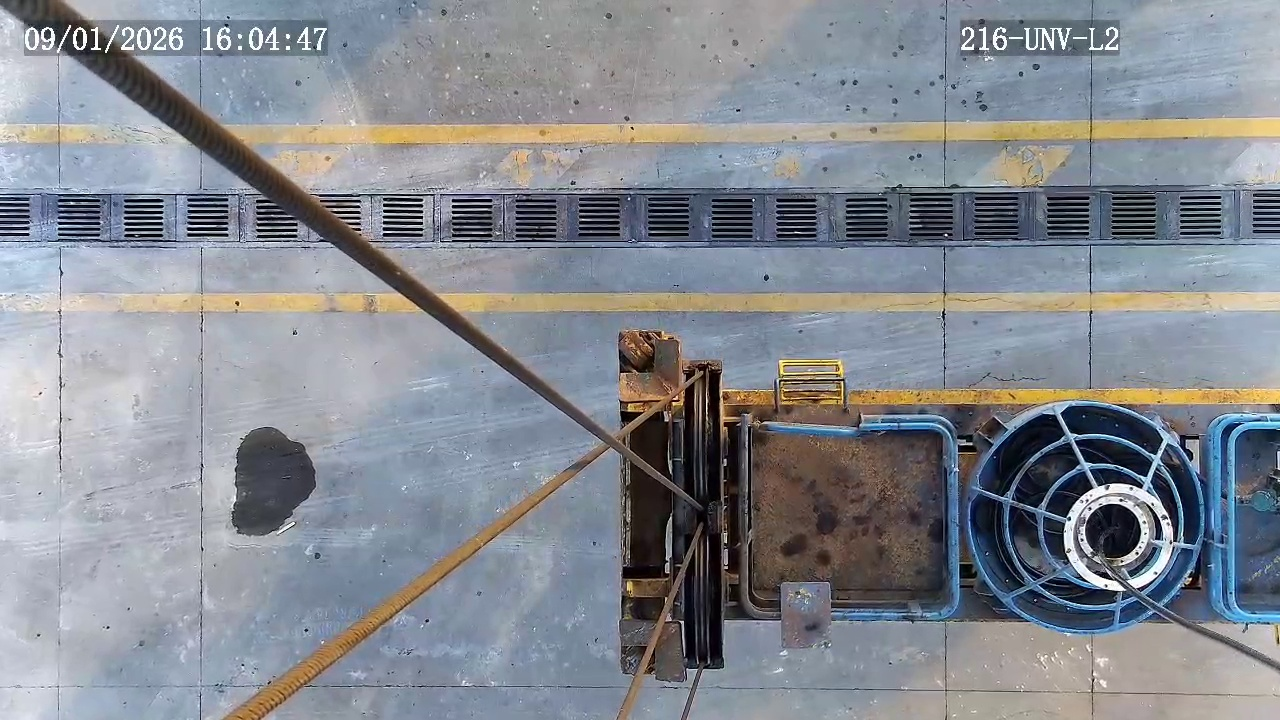left: (966, 400, 1203, 632)
